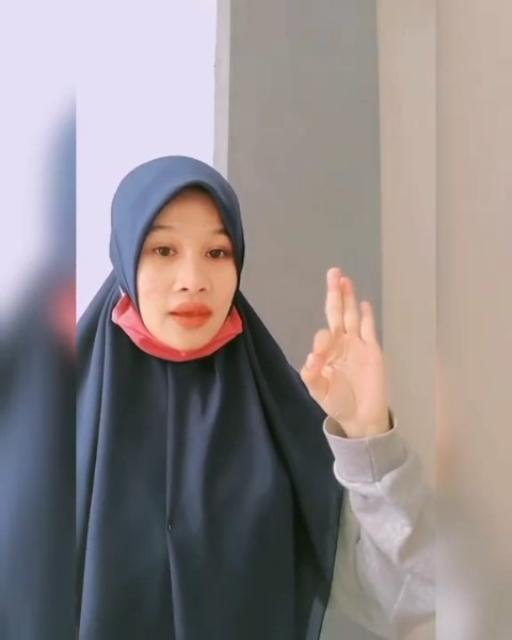F: (300, 263, 392, 432)
